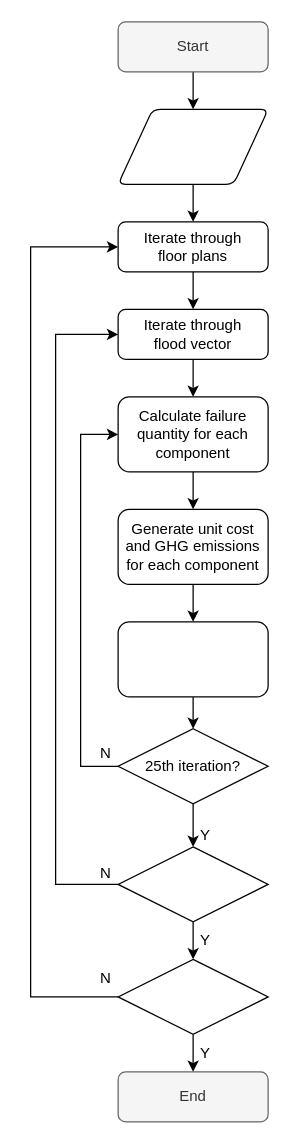
The diagram is 290 pixels wide and 1144 high, and some of its shapes have lost their labels. Each missing label, with the centre of its shape:
"Generate flood vector" goes at pixel 192 146.
"Last depth?" goes at pixel 192 884.
"Last floor plan?" goes at pixel 192 996.
"Sum component-level impacts to building-level" goes at pixel 192 659.
